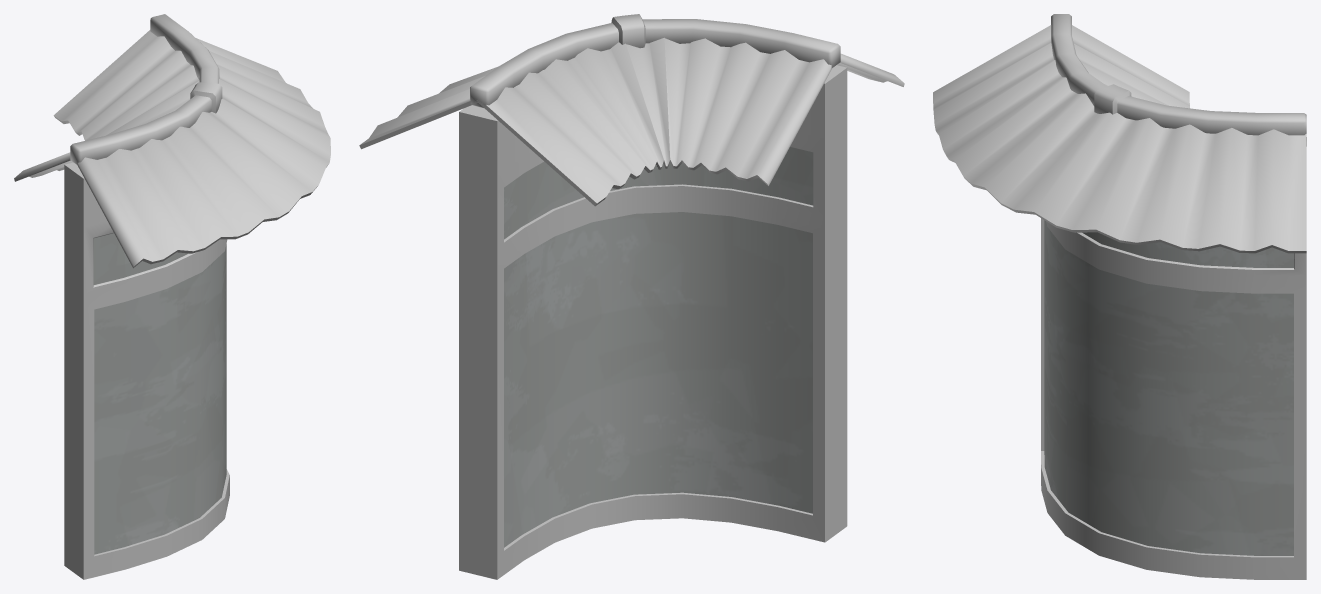
Rendered from Japan.Temple.Wall.Corner_01.fbx.
The picture shows the model from 3 angles, left to right: view 1: azimuth 30°, elevation 25°; view 2: azimuth 150°, elevation 25°; view 3: azimuth 270°, elevation 25°; orthographic projection. The views are drawn at different scales.
Parts seen in each view (by area): view 1: Japan.Temple.Wall.Corner_01; view 2: Japan.Temple.Wall.Corner_01; view 3: Japan.Temple.Wall.Corner_01.
Part boxes in pixels (bbox=[...]): Japan.Temple.Wall.Corner_01: bbox=[14, 14, 330, 579]; Japan.Temple.Wall.Corner_01: bbox=[359, 14, 904, 579]; Japan.Temple.Wall.Corner_01: bbox=[933, 14, 1306, 579].
Bounding box in the file's own units: 452 × 614 × 453.
